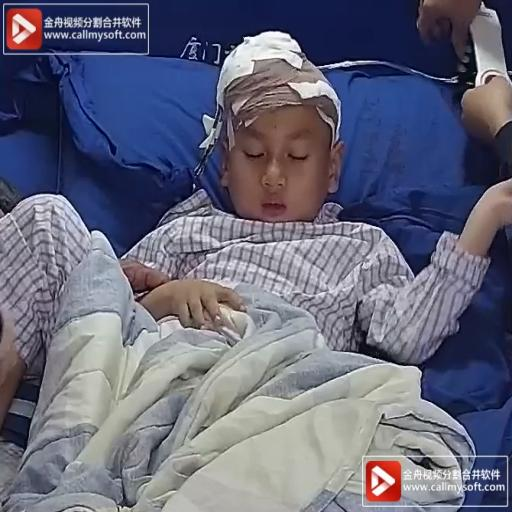Seizure: (201, 36, 352, 227)
